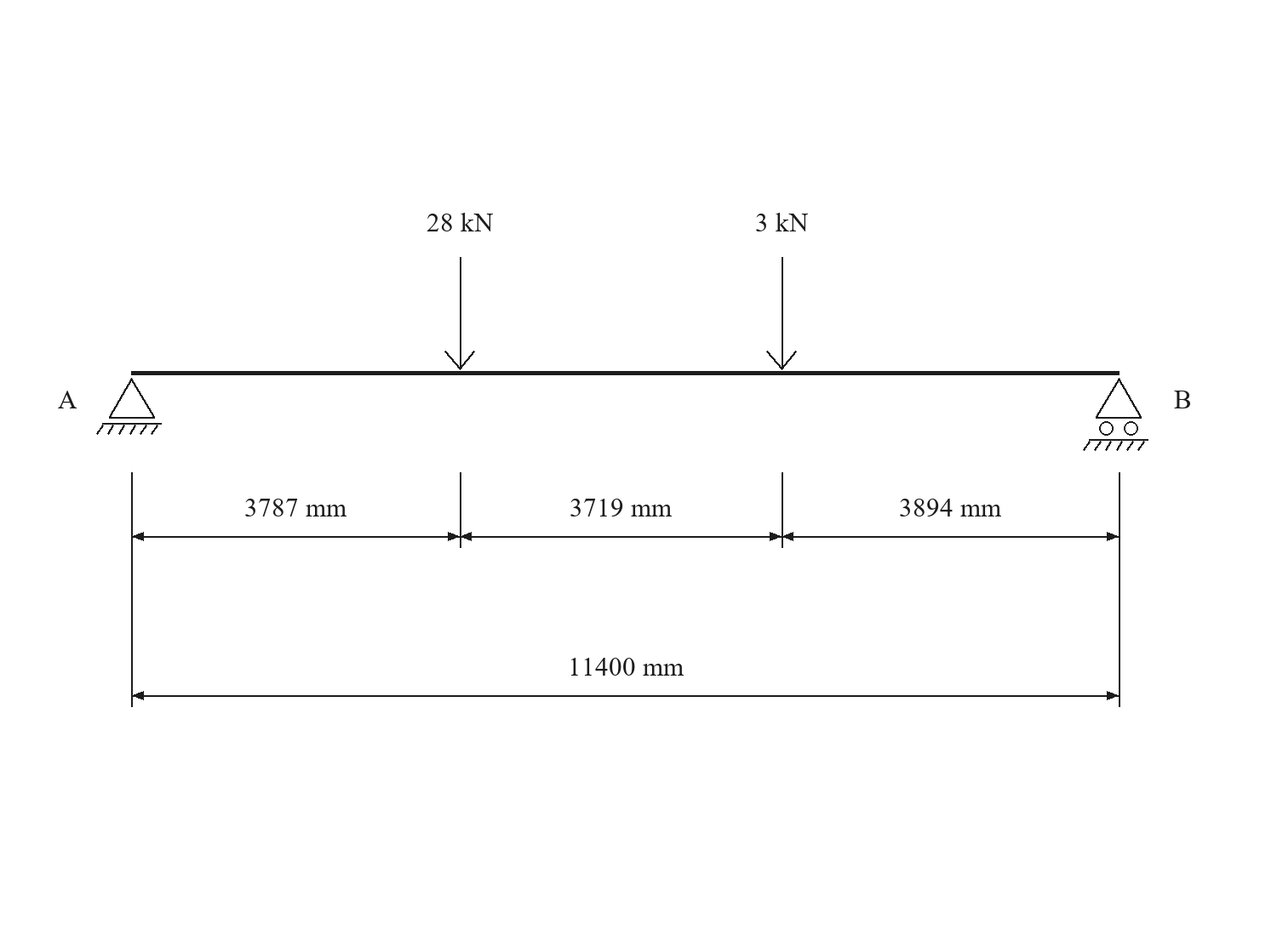pin_support: (96, 378, 162, 435)
point_load: (444, 257, 475, 370), (766, 257, 797, 370)
roller_support: (1083, 378, 1148, 451)
